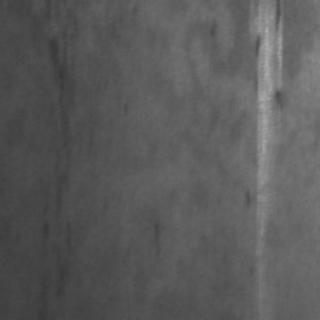scratches: (245, 0, 281, 238)
